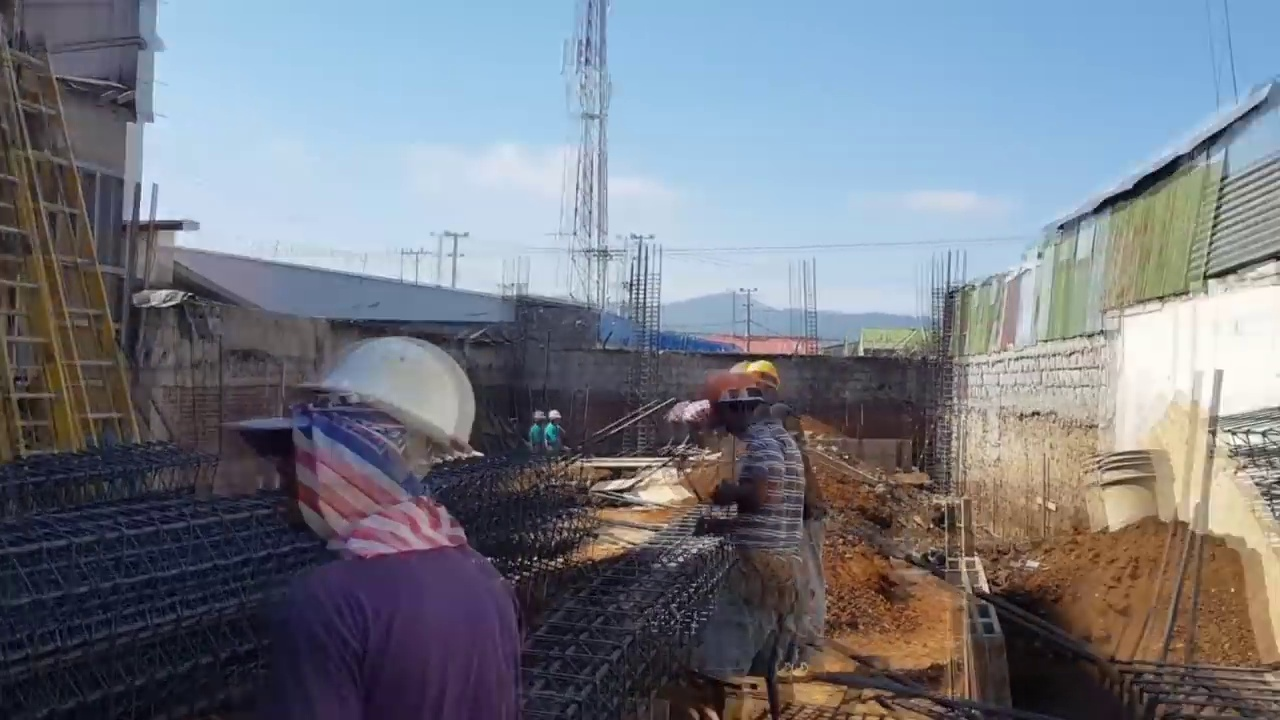helmet: (320, 345, 473, 464), (705, 372, 764, 404), (747, 360, 780, 389), (547, 409, 562, 419), (533, 411, 546, 419)
helmet-on: (230, 339, 477, 534), (705, 374, 763, 437), (747, 360, 781, 413), (547, 409, 563, 425), (532, 412, 547, 427)
person: (229, 325, 518, 720), (693, 354, 806, 718), (545, 407, 568, 457), (527, 413, 546, 450)
